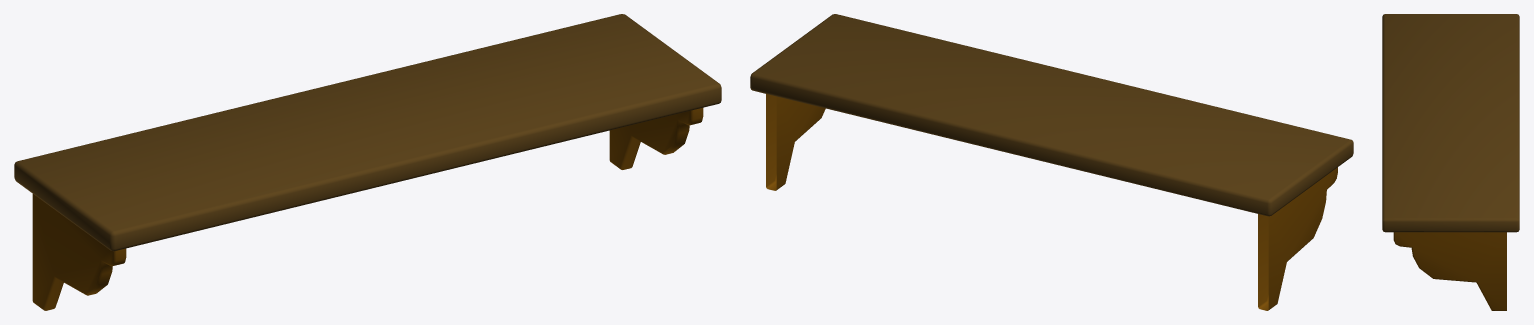
The model's file is Shelf.fbx.
3 renders of one model, left to right at view 1: azimuth 30°, elevation 25°; view 2: azimuth 150°, elevation 25°; view 3: azimuth 270°, elevation 25°, orthographic. The views are drawn at different scales.
Parts seen in each view (by area): view 1: Shelf; view 2: Shelf; view 3: Shelf.
Boxes of the visible parts, <box> form: Shelf: <box>14,14,721,310</box>; Shelf: <box>750,14,1353,310</box>; Shelf: <box>1382,14,1519,310</box>.
Size of the model in its own units: 11.66 by 2.53 by 3.28.
